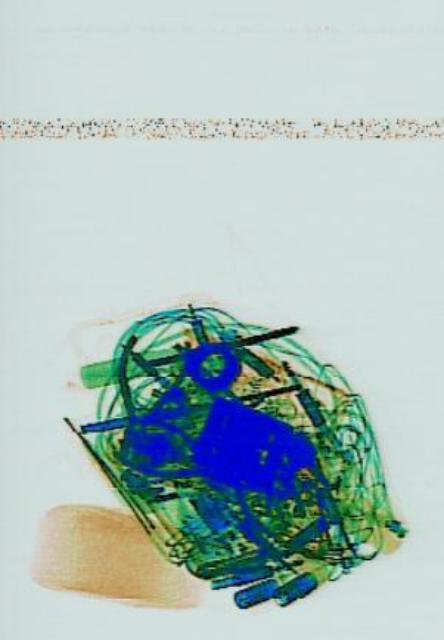Pliers: (93, 322, 190, 476), (118, 408, 224, 490)
